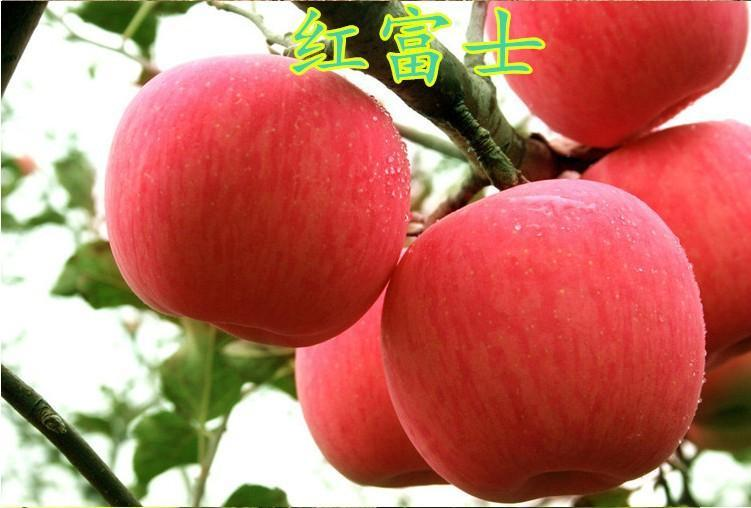apple: (362, 185, 721, 495), (109, 51, 424, 336), (476, 1, 751, 153), (576, 124, 750, 358), (291, 303, 437, 485)
